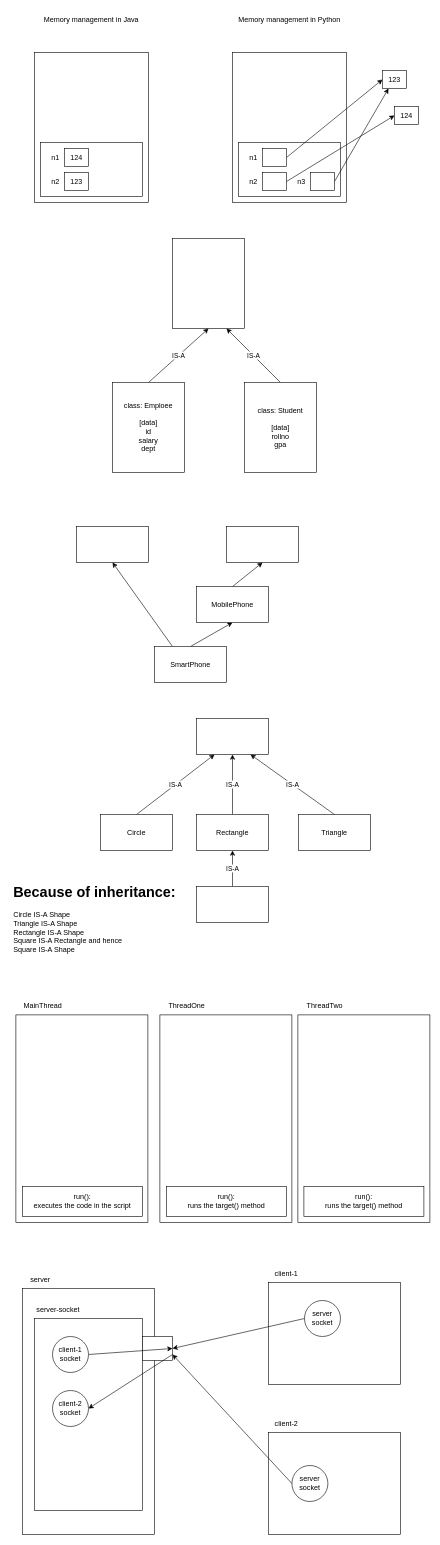
Image size: 440x1545. Some labels were removed from this diagram. Each missing label, with the centre of its shape:
"Camera" goes at (112,544).
"class: Person [data] name email phone" goes at (208,283).
"Phone" goes at (262,544).
"port: 2345" goes at (157,1348).
"Shape [methods] print_area()" goes at (232,736).
"Square" goes at (232,904).
